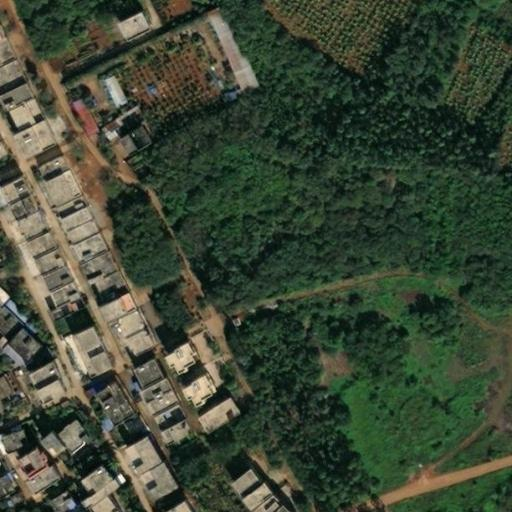building: (197, 4, 245, 85), (61, 322, 102, 376), (110, 311, 147, 356), (133, 462, 173, 503), (7, 121, 49, 160), (118, 437, 158, 477), (88, 383, 125, 426), (189, 400, 231, 436), (20, 364, 57, 404), (53, 205, 90, 243), (91, 113, 132, 147), (36, 169, 72, 206), (74, 477, 112, 510), (0, 329, 34, 365), (11, 443, 43, 478), (61, 101, 89, 140), (108, 8, 142, 40), (72, 250, 107, 281), (64, 231, 99, 261), (49, 422, 80, 453), (125, 357, 155, 388), (20, 465, 52, 494), (173, 372, 203, 402), (25, 245, 56, 273), (78, 462, 107, 491), (157, 345, 186, 374), (138, 388, 170, 414), (41, 299, 75, 323), (9, 211, 38, 239), (84, 270, 115, 296), (132, 377, 164, 402), (17, 229, 46, 256), (33, 263, 63, 289), (234, 482, 263, 508), (146, 405, 176, 430), (223, 471, 251, 497), (93, 294, 121, 320), (40, 278, 69, 303), (30, 159, 60, 181), (95, 76, 117, 106), (118, 124, 142, 149), (86, 408, 108, 435), (160, 415, 185, 438), (43, 491, 70, 512), (49, 198, 77, 217), (31, 429, 54, 450), (245, 497, 272, 512), (111, 135, 129, 156), (156, 499, 185, 512), (84, 498, 109, 512), (77, 134, 95, 153), (72, 477, 89, 496), (1, 378, 17, 397), (115, 418, 132, 434), (152, 425, 167, 443), (294, 331, 311, 346), (115, 293, 129, 311), (39, 444, 57, 456), (121, 381, 134, 394), (265, 503, 283, 512), (74, 389, 85, 400)
